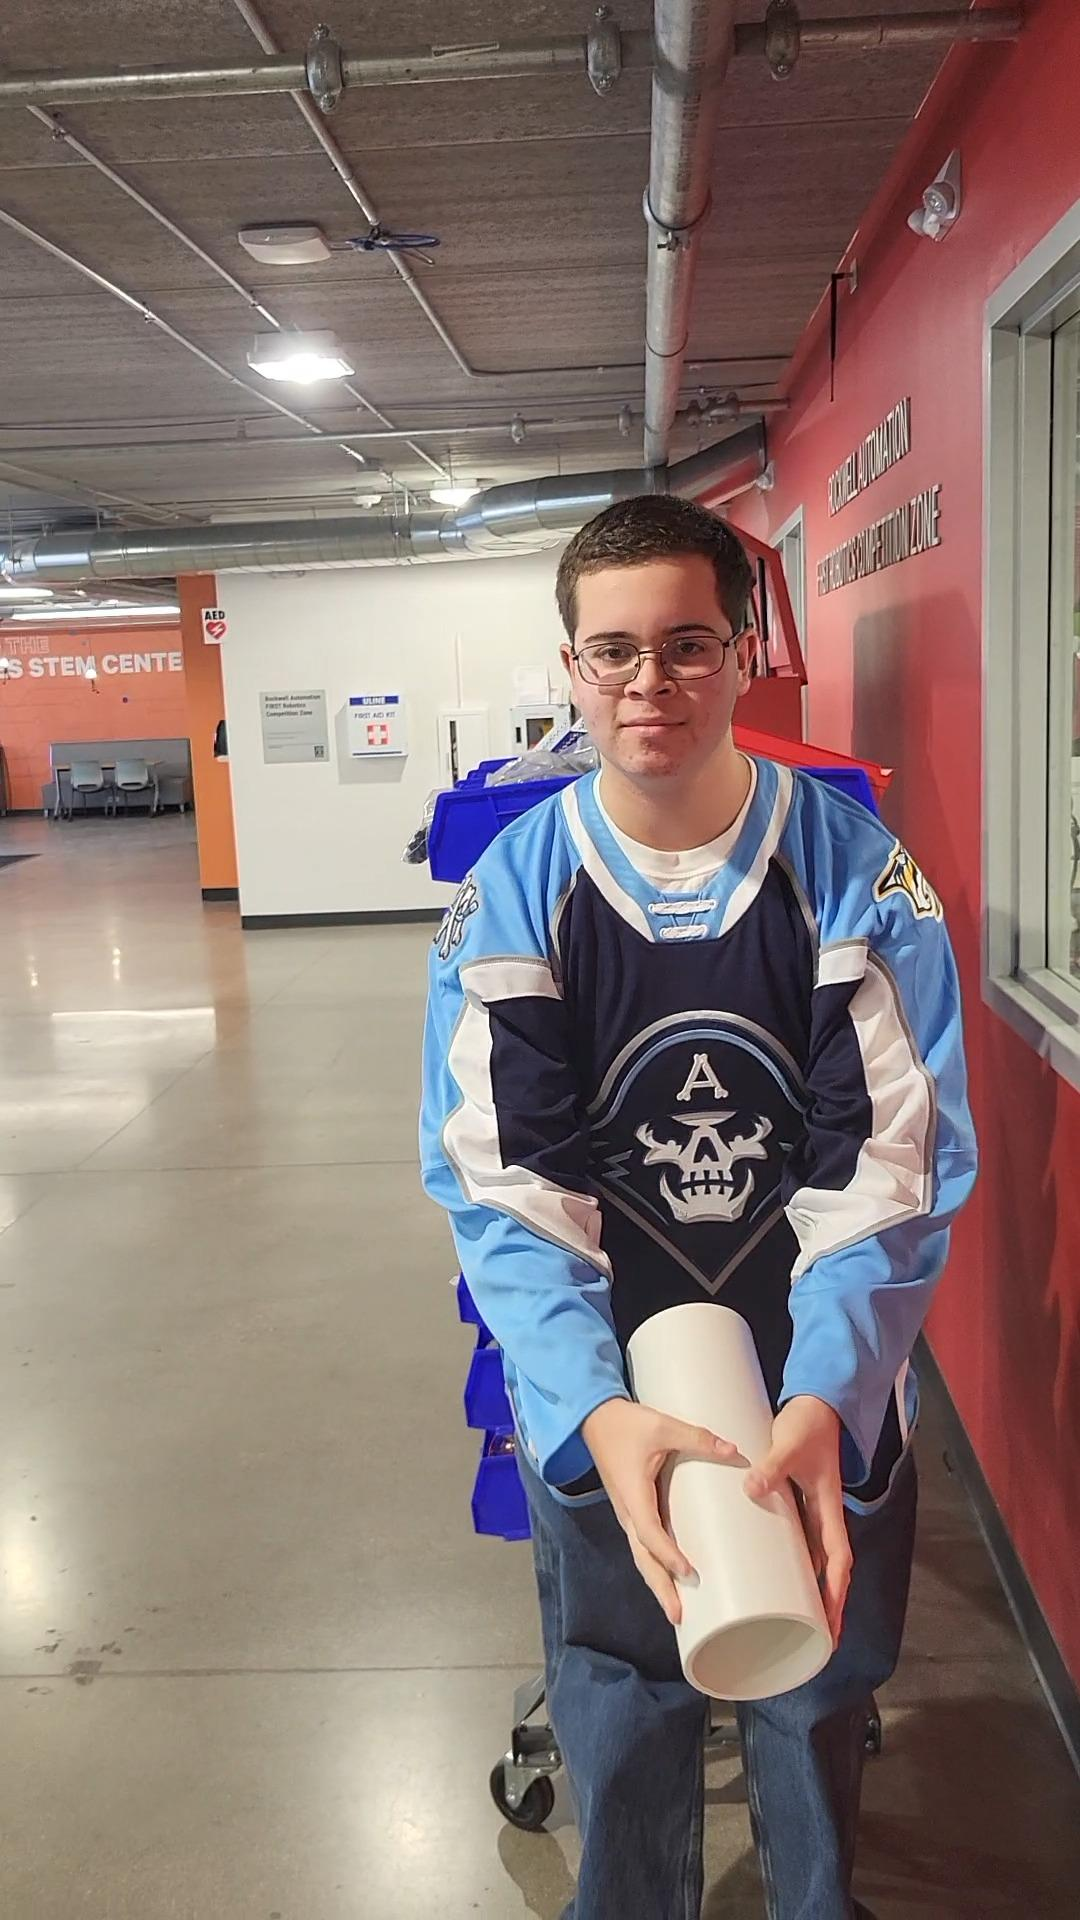coral: (617, 1304, 844, 1700)
